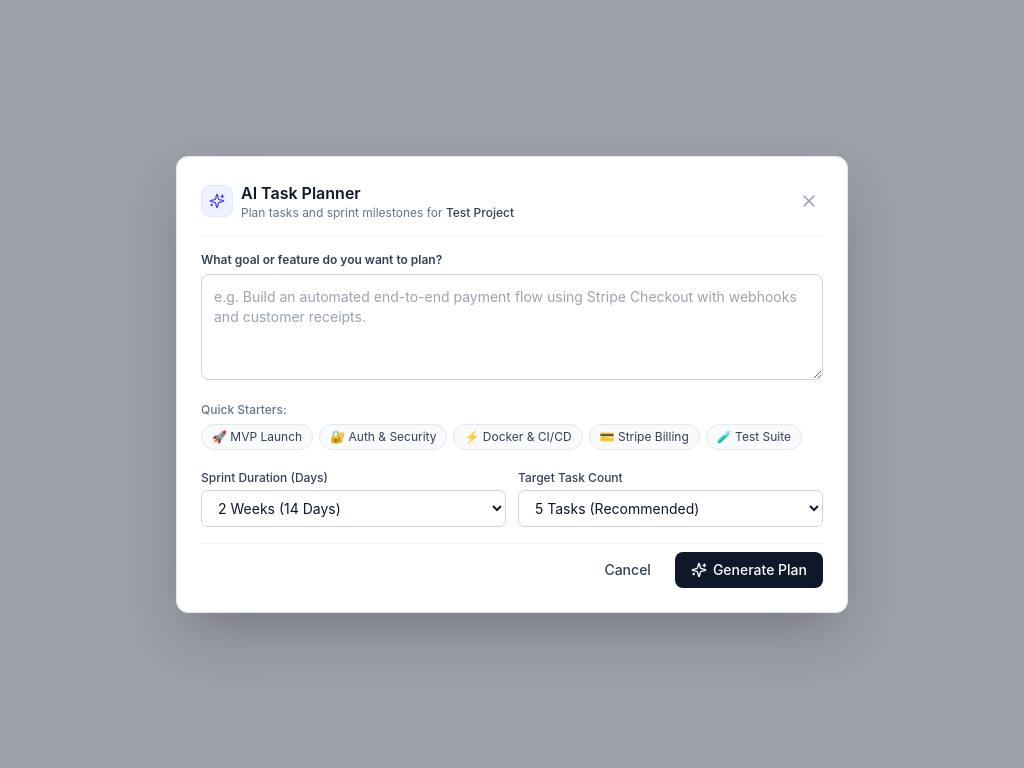
Test: AiPlannerModal Component › generates plan and shows task review list
Replace the text in the text box with placeholder "e.g. Build an automated" with "Build auth" at (512, 326), box [201, 274, 823, 380]
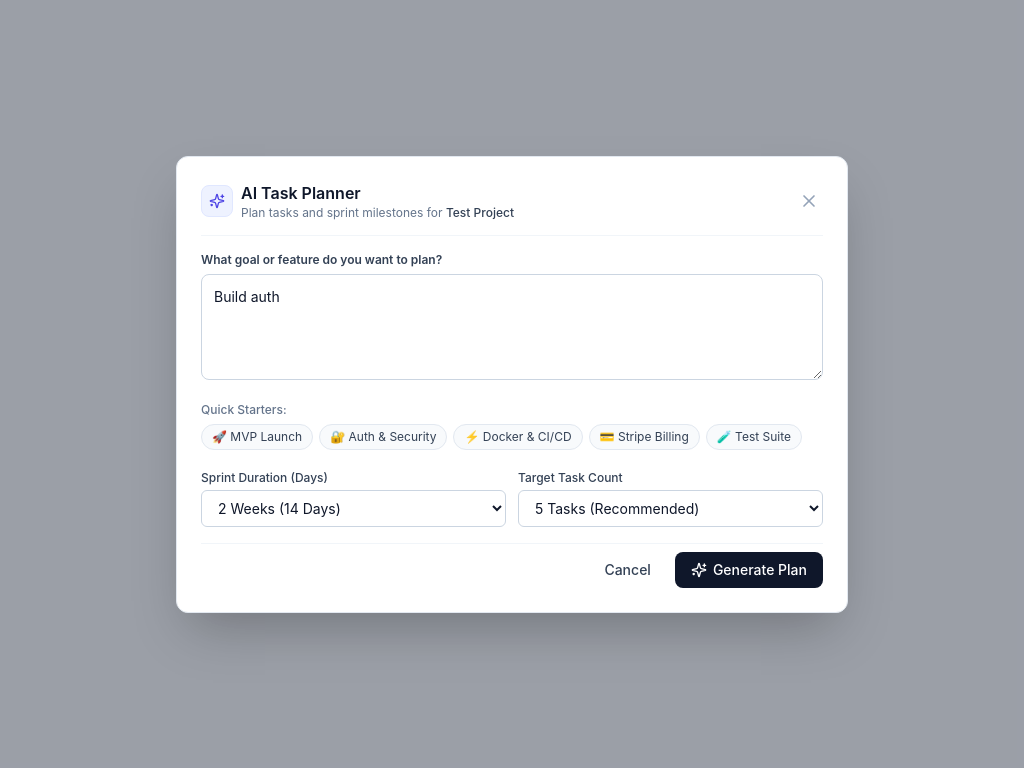
Click the button "Generate Plan".
click(749, 570)  # box [675, 552, 823, 588]
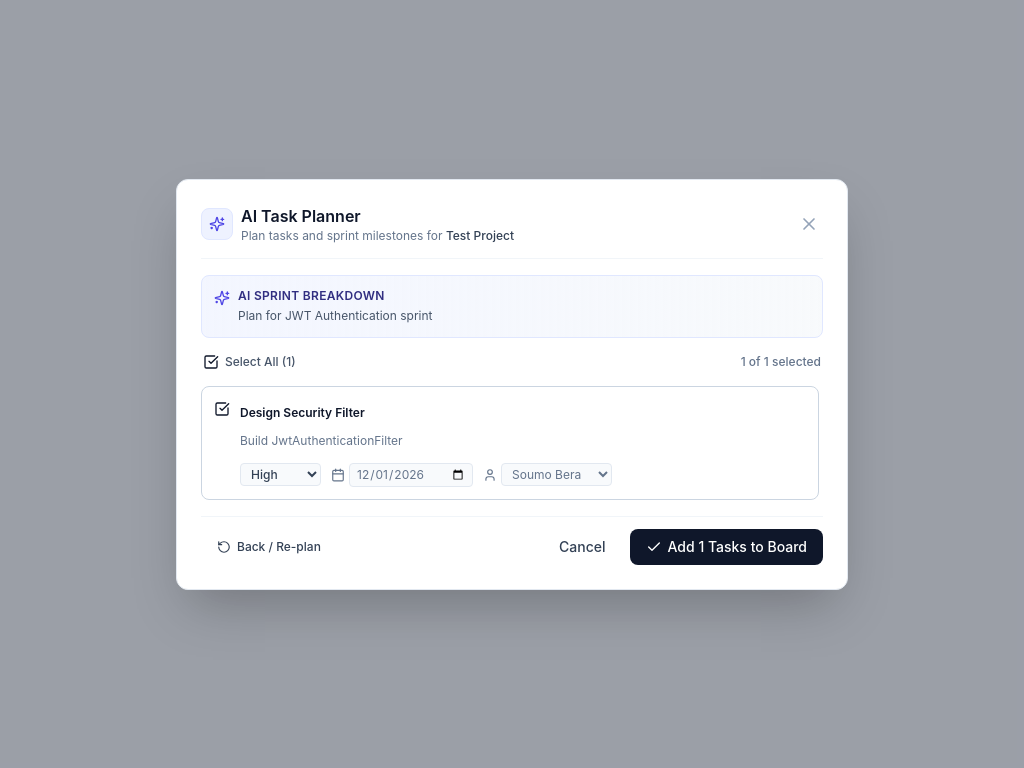
Check: the text "Plan for JWT Authentication sprint" is shown, box [238, 306, 432, 325]
Check: the field showing "Design Security Filter" is shown, box [240, 405, 806, 422]
